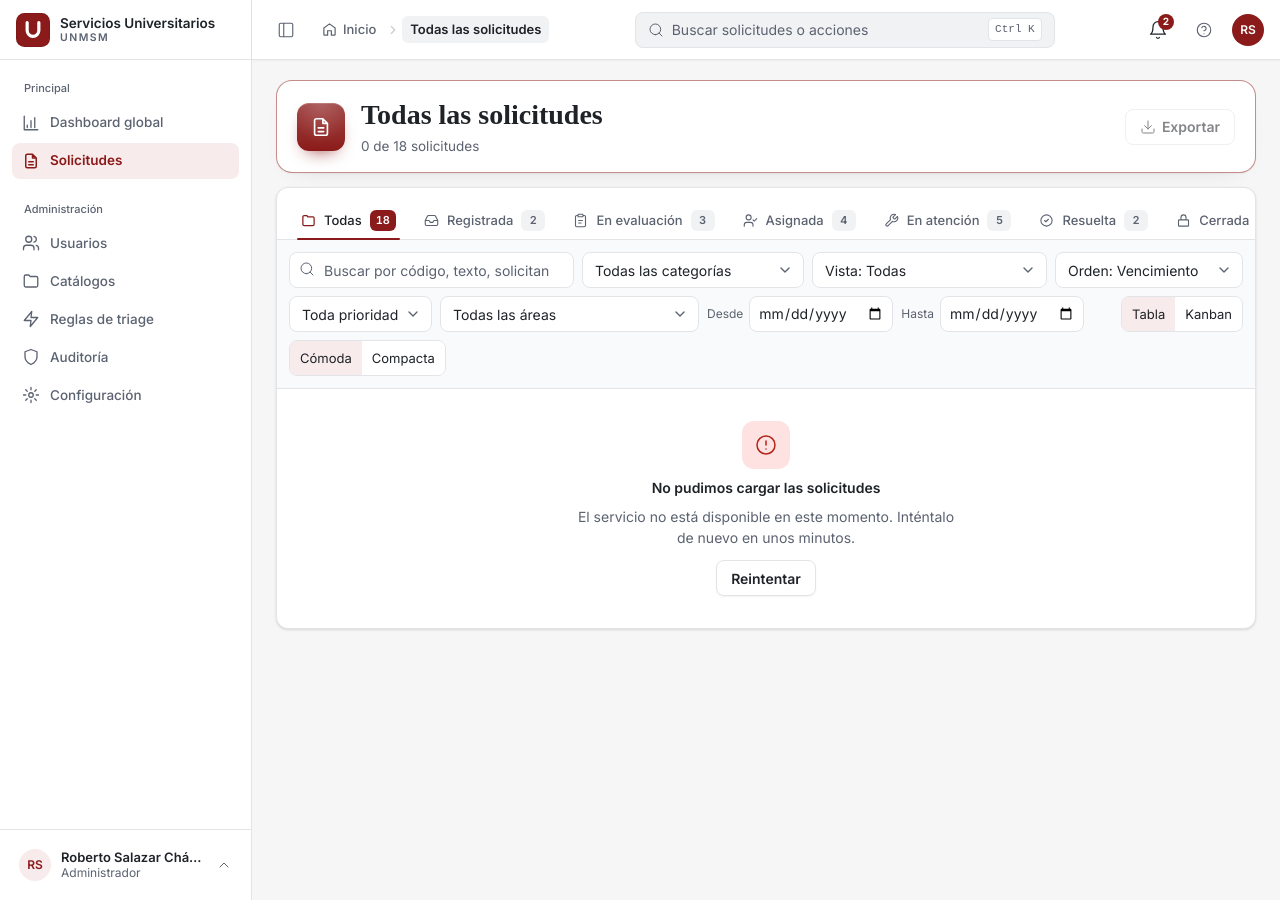
Test case: Bandeja con filtros y paginación del servidor › si la página no carga, ofrece reintentar y muestra las solicitudes al lograrlo
The image size is (1280, 900).
Expected: the message shows "No pudimos cargar las solicitudes", [652,479,880,496]
Step 1. Click the button "Reintentar" → coordinates (766, 578), box [716,560,816,596]
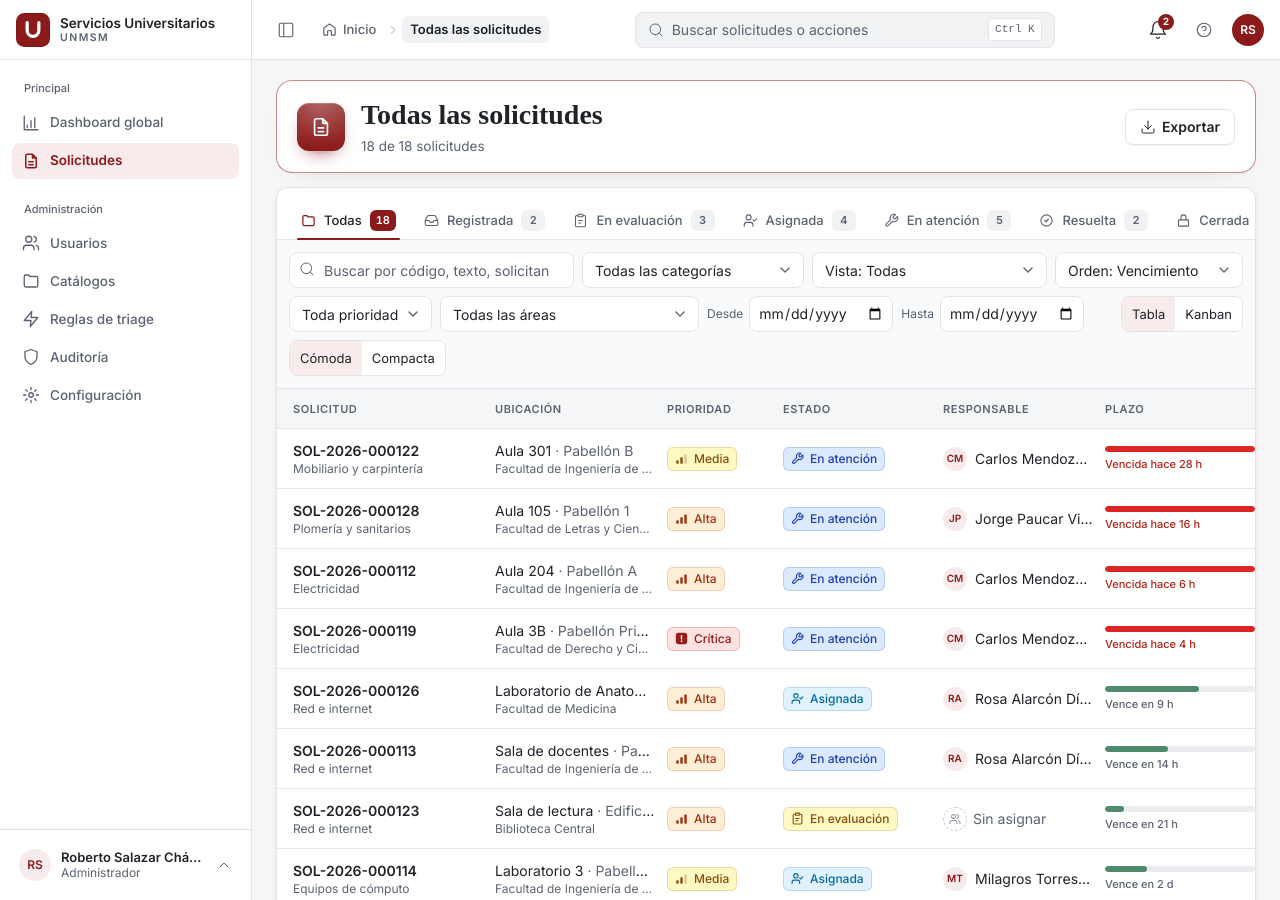
Expected: the text "No pudimos cargar las solicitudes" is gone
